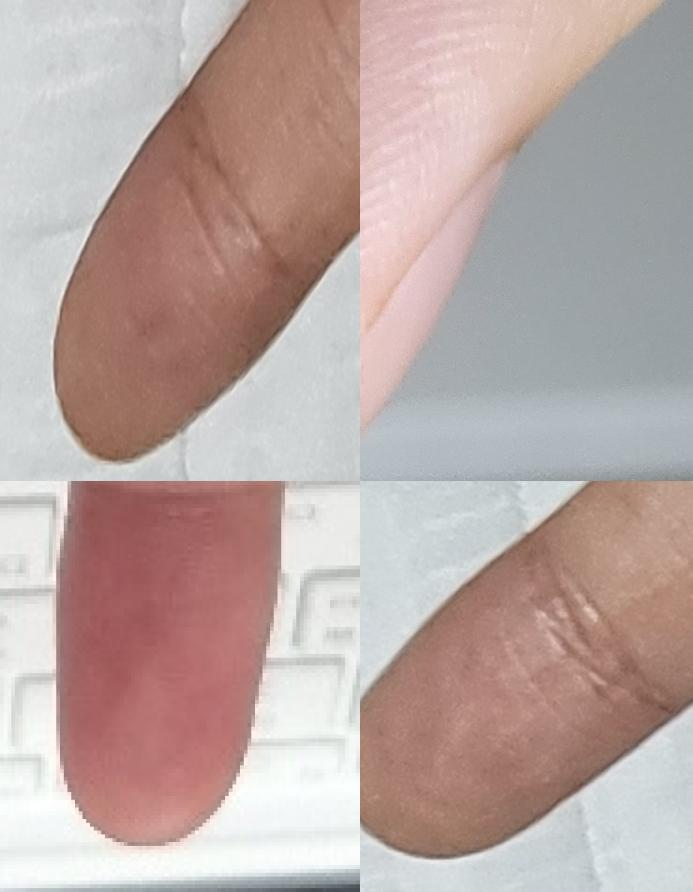Fingerprints: (360, 533, 656, 861), (52, 88, 309, 464), (56, 481, 284, 846), (360, 0, 592, 330)
